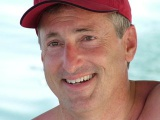male: (40, 16, 127, 111)
